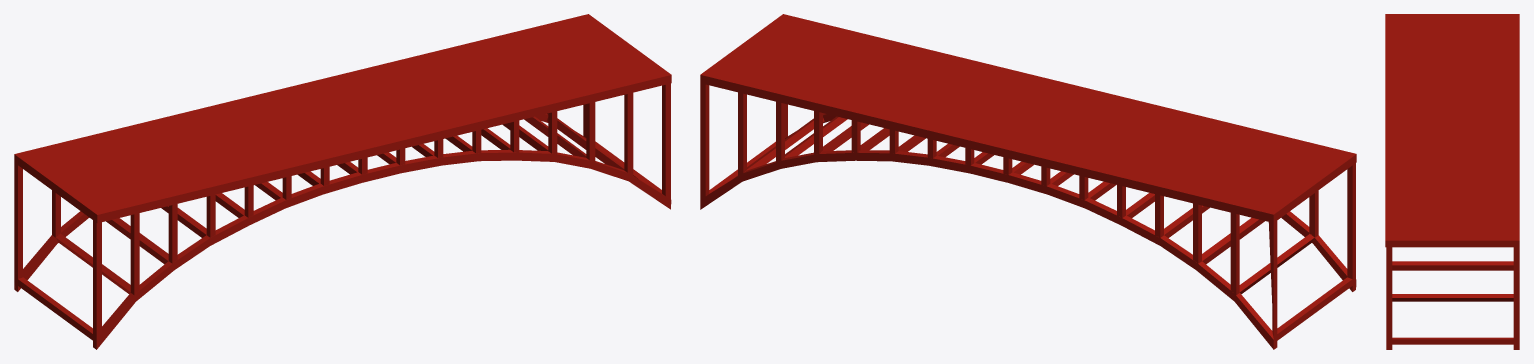
Rendered from archbridge.obj.
The picture shows the model from 3 angles, left to right: view 1: azimuth 30°, elevation 25°; view 2: azimuth 150°, elevation 25°; view 3: azimuth 270°, elevation 25°; orthographic projection. The views are drawn at different scales.
Visible parts, largest first — view 1: Cube_Cube.004; view 2: Cube_Cube.004; view 3: Cube_Cube.004.
Part boxes in pixels (<box>): Cube_Cube.004: <box>14,14,671,349</box>; Cube_Cube.004: <box>700,14,1356,349</box>; Cube_Cube.004: <box>1385,14,1519,349</box>.
Bounding box in the file's own units: 21.93 × 4.94 × 5.5.
